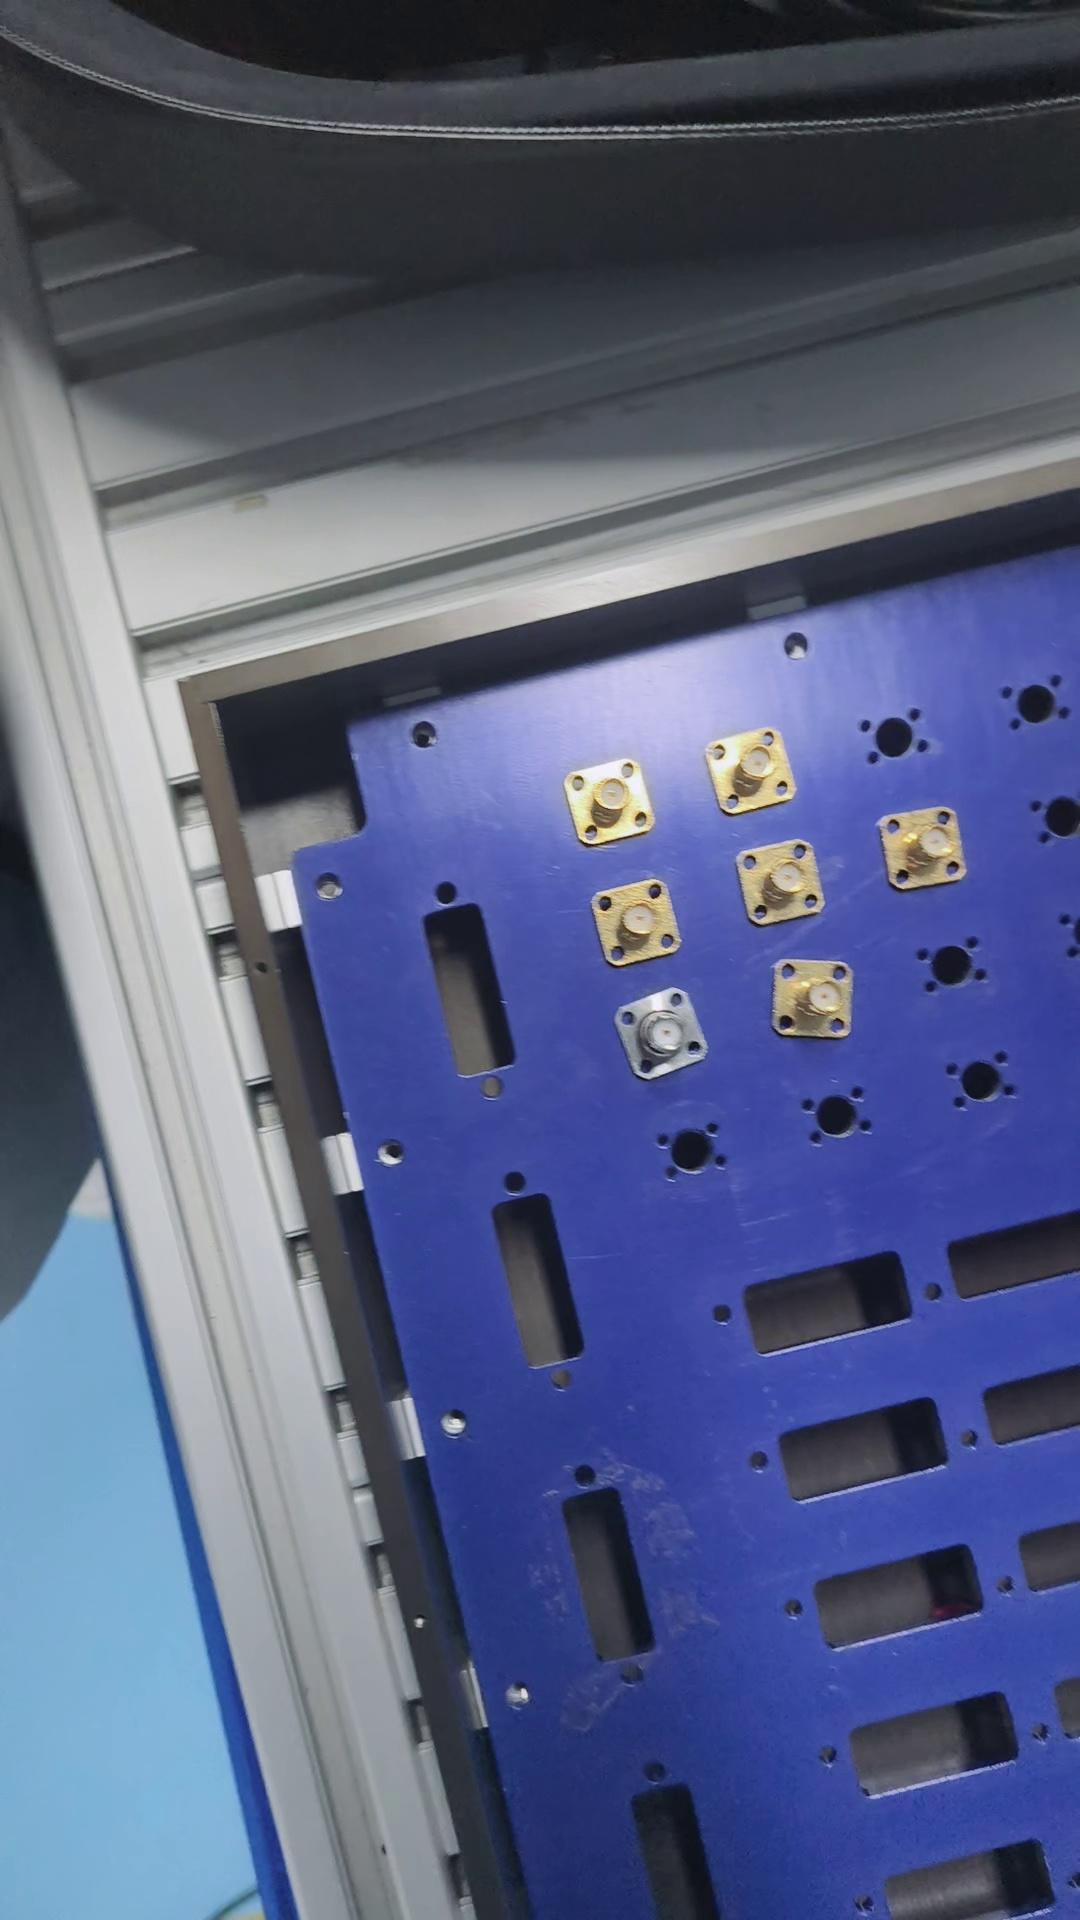SMA: (560, 758, 665, 848), (769, 949, 861, 1048), (615, 990, 709, 1083), (738, 836, 831, 928), (589, 882, 684, 968), (709, 727, 799, 816), (880, 806, 969, 890)
